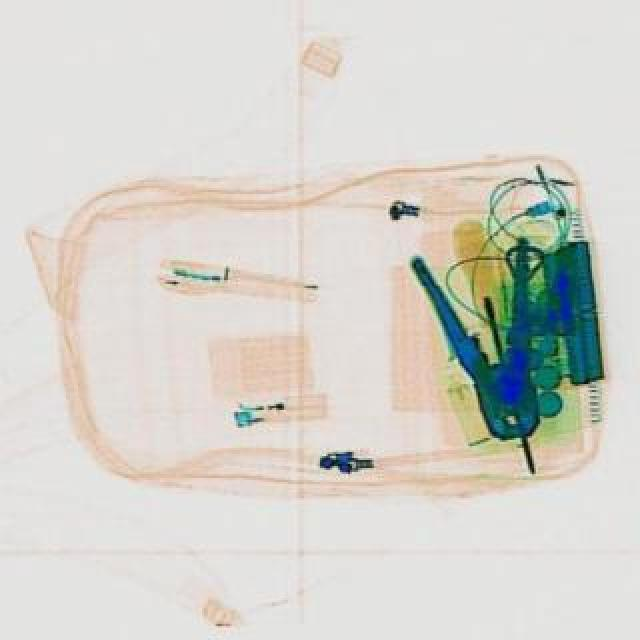wrench: (410, 234, 572, 450)
